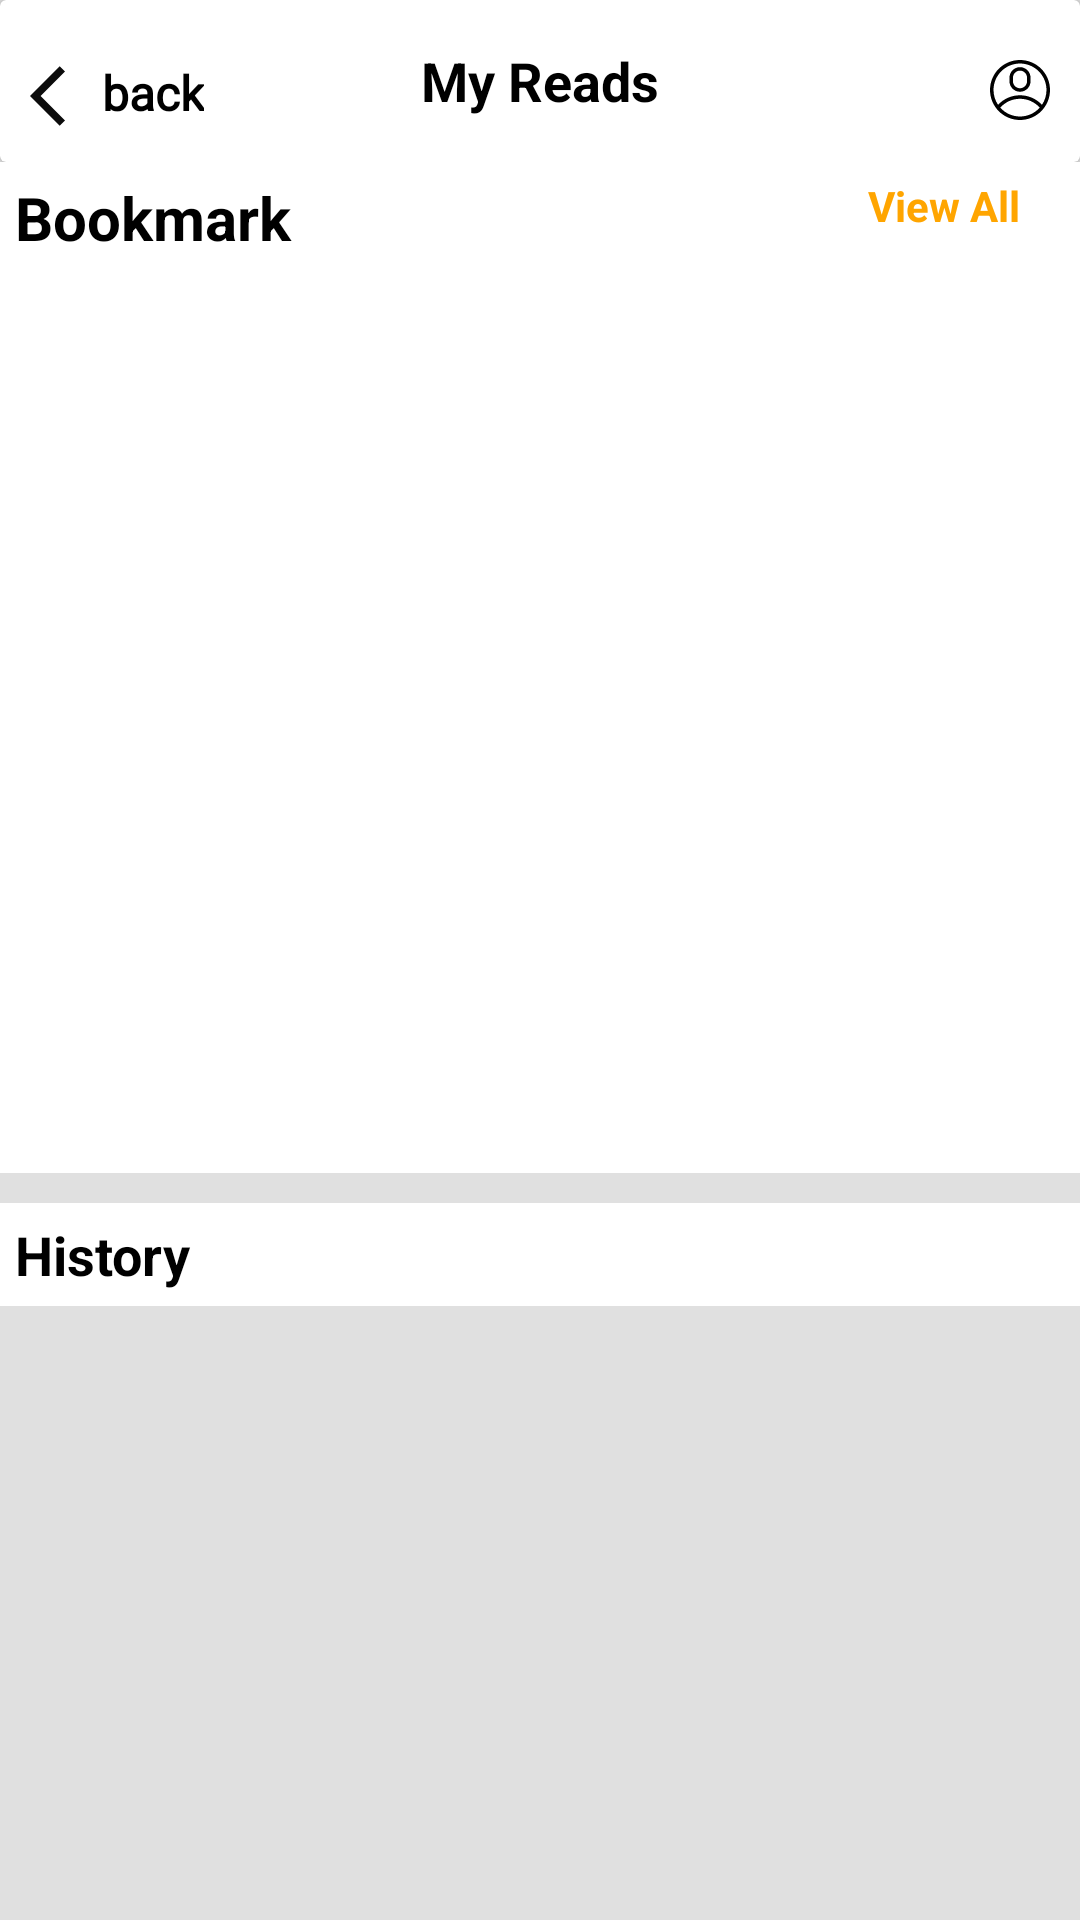

Screen size 1080px×1920px. Icon name, then its box in pixels as (left=x1, top=y1, right=x2, bottom=y2):
account: (left=990, top=60, right=1050, bottom=120)
